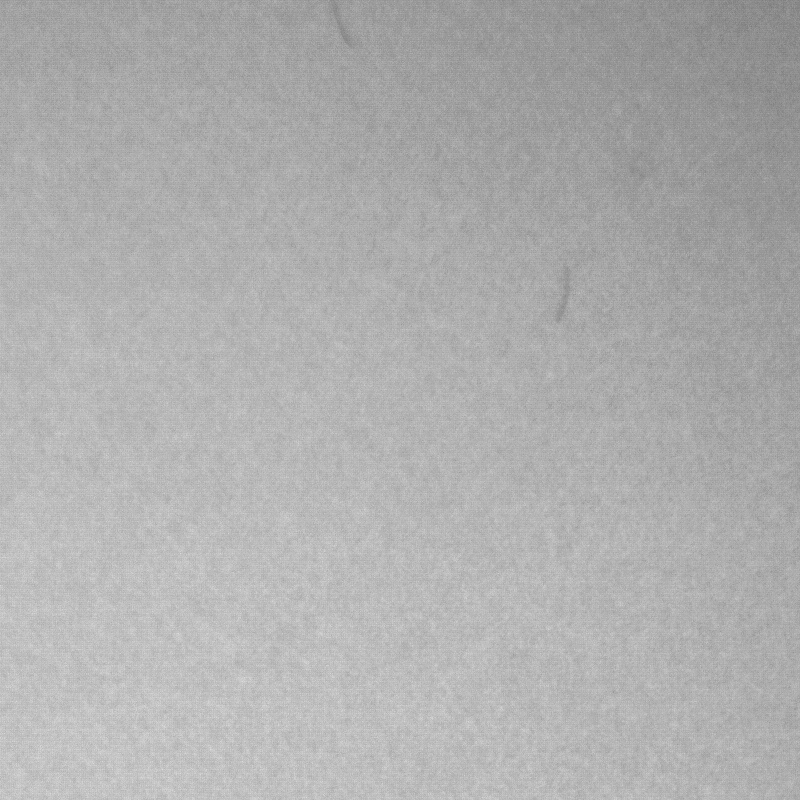defect: (329, 1, 355, 47), (552, 268, 569, 328)
